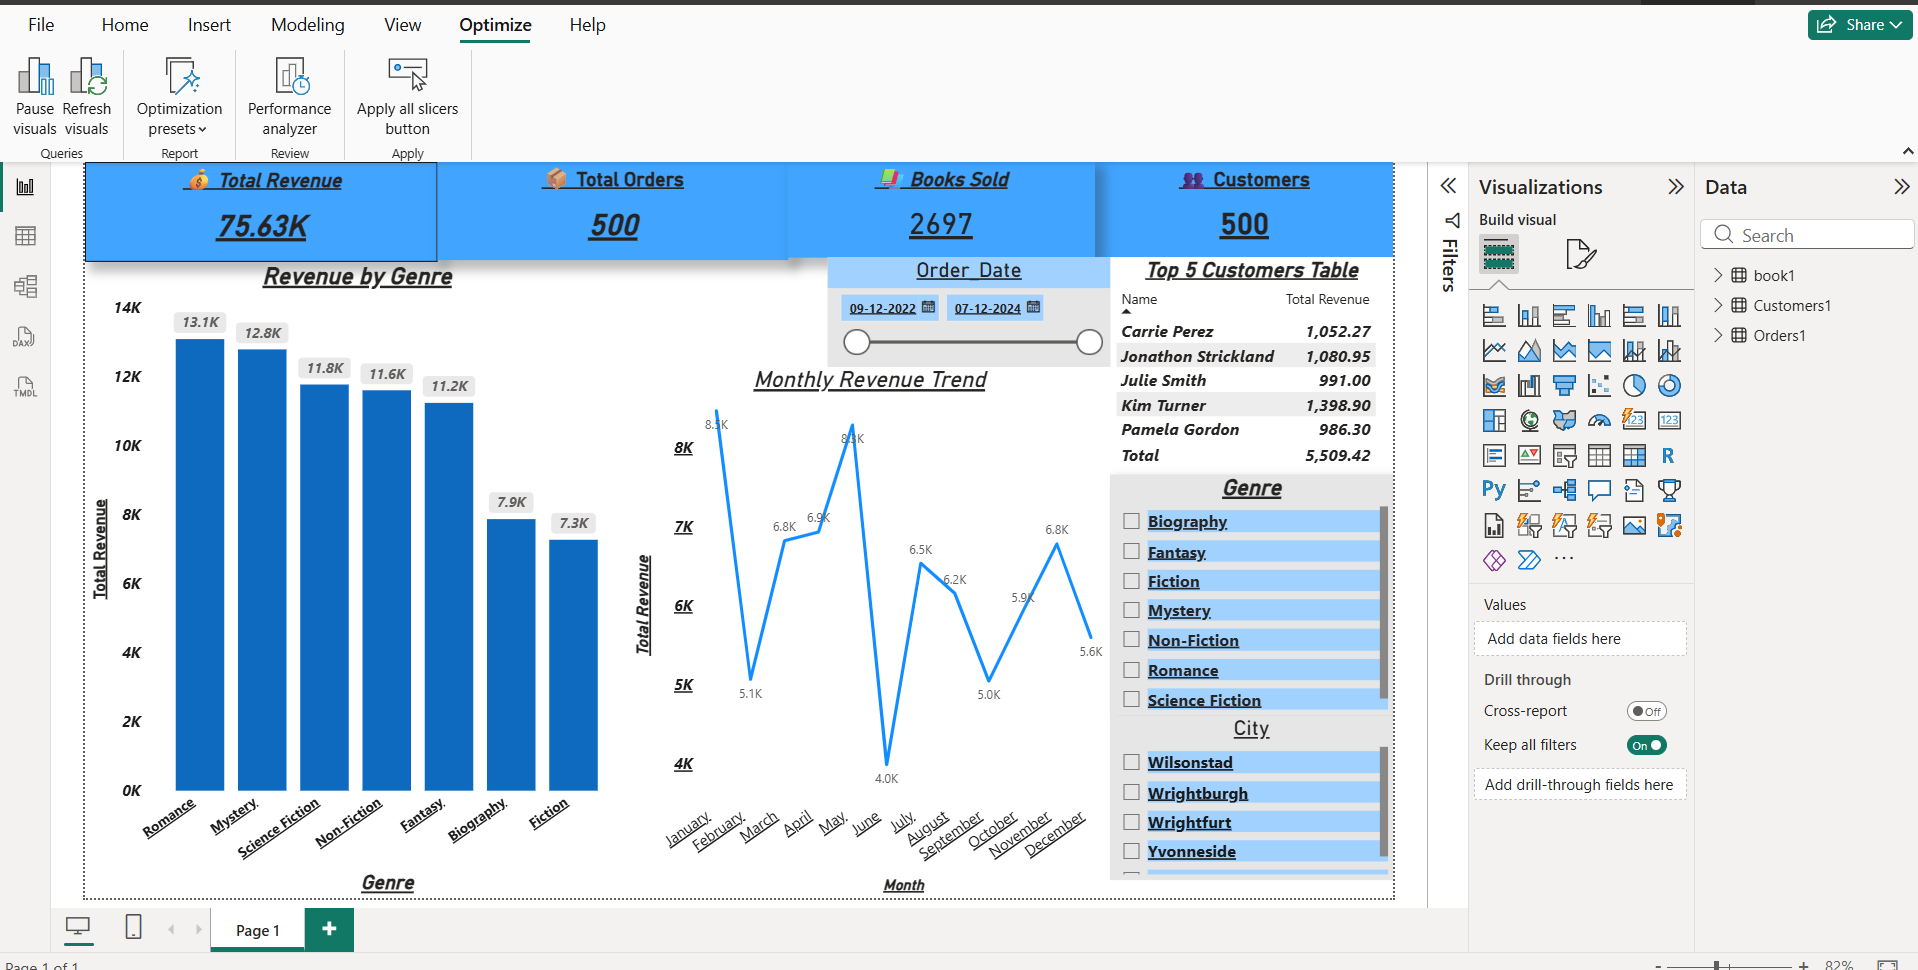

The dashboard page shown, as its layout file describes it:
{"tool":"powerbi","page":{"name":"Page 1","canvas":[1280,720],"ordinal":0},"visuals":[{"type":"card","title":"💰 Total Revenue","fields":{"Values":["Customers1.Total Revenue"]},"box":[0,0,344.8,97.8],"z":0},{"type":"card","title":"📦 Total Orders","fields":{"Values":["Customers1.Total Orders"]},"box":[344.4,0,343.1,96.1],"z":1000},{"type":"card","title":"👥 Customers","fields":{"Values":["Customers1.Total Customers"]},"box":[988,0,292.3,93.3],"z":2000},{"type":"card","title":"📚 Books Sold","fields":{"Values":["Customers1.Total Books Sold"]},"box":[687.5,0,300.5,93.3],"z":3000},{"type":"columnChart","title":"Revenue by Genre","fields":{"Category":["book1.Genre"],"Y":["Customers1.Total Revenue"]},"box":[0,97.4,532.4,623],"z":4000},{"type":"tableEx","title":" Top 5 Customers Table","fields":{"Values":["Customers1.Name","Customers1.Total Revenue"]},"box":[1003.1,93.3,277.2,212.7],"z":5000},{"type":"slicer","title":"Genre","fields":{"Values":["book1.Genre"]},"box":[1003.1,306,277.2,236],"z":6000},{"type":"slicer","title":"City","fields":{"Values":["Customers1.City"]},"box":[1003.1,542,277.2,160.5],"z":7000},{"type":"slicer","title":"Order_Date","fields":{"Values":["Orders1.Order_Date"]},"box":[725.9,93.3,277.2,107],"z":8000},{"type":"lineChart","title":"Monthly Revenue Trend","fields":{"Category":["Orders1.Order_Date.Variation.Date Hierarchy.Month"],"Y":["Customers1.Total Revenue"]},"box":[532.4,200.3,470.7,520.1],"z":9000}]}

Visuals, with their boxes on the page's 1280x720 design canvas (x1, y1, x2, y2). These are canvas units, not pixel positions in the 1918x970 screenshot, which may show the page scaled, cropped or inside an application window:
"💰 Total Revenue" card: crop(0, 0, 345, 98)
"📦 Total Orders" card: crop(344, 0, 688, 96)
"👥 Customers" card: crop(988, 0, 1280, 93)
"📚 Books Sold" card: crop(688, 0, 988, 93)
"Revenue by Genre" columnChart: crop(0, 97, 532, 720)
" Top 5 Customers Table" tableEx: crop(1003, 93, 1280, 306)
"Genre" slicer: crop(1003, 306, 1280, 542)
"City" slicer: crop(1003, 542, 1280, 702)
"Order_Date" slicer: crop(726, 93, 1003, 200)
"Monthly Revenue Trend" lineChart: crop(532, 200, 1003, 720)
